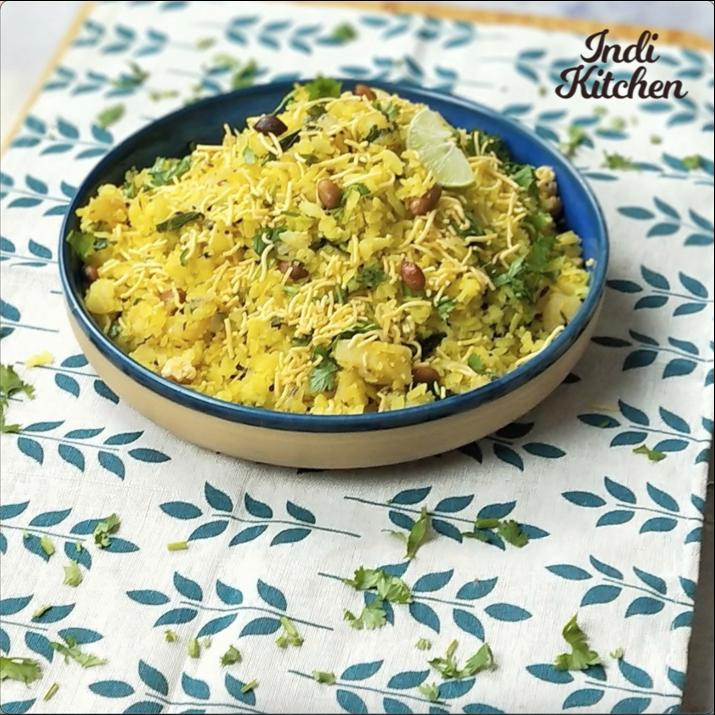poha: (51, 83, 630, 476)
